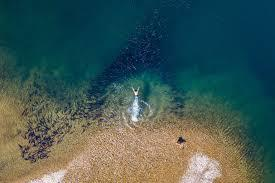swimmer: (131, 84, 141, 103)
